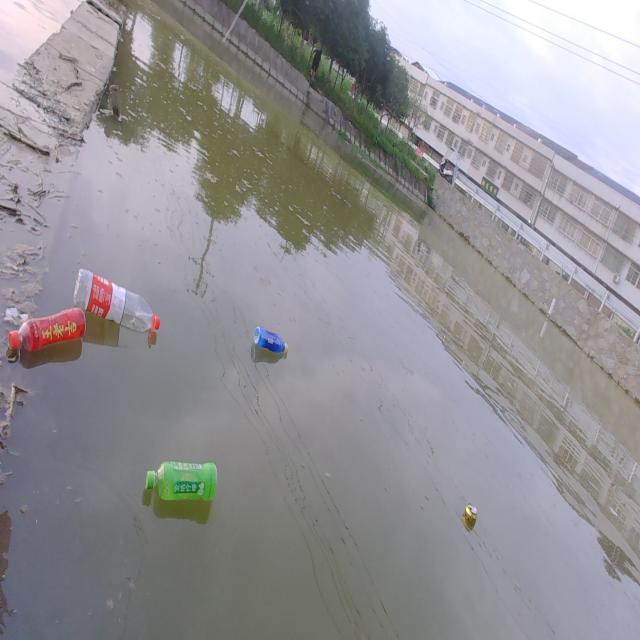garbage: (73, 267, 161, 334), (8, 306, 86, 354), (142, 460, 218, 508), (253, 325, 289, 357)
